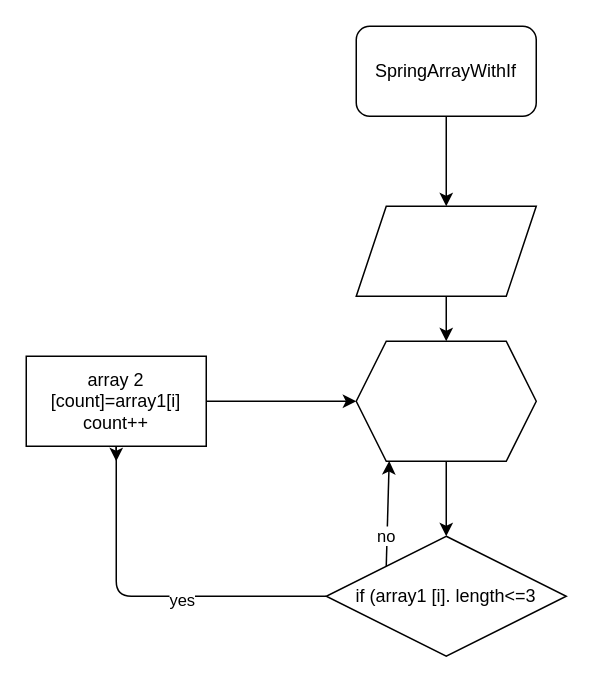
The diagram is 593 pixels wide and 683 high, and some of its shapes have lost their labels. Here are the shapes that lost their labels. From the top down, the centre of each, then its label:
At (445,250): "string[] array 1 string array 2 int count + 0".
At (445,400): "for (int i =0; i<array 1 length; i++".
